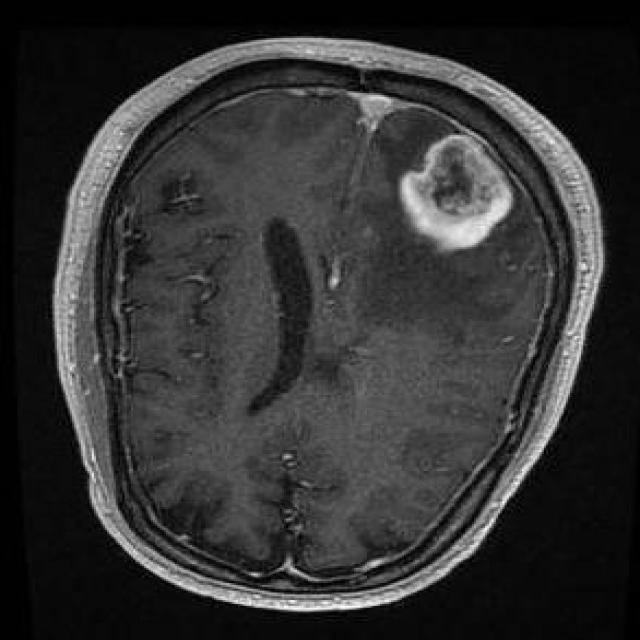Tumor: (402, 128, 516, 264)
